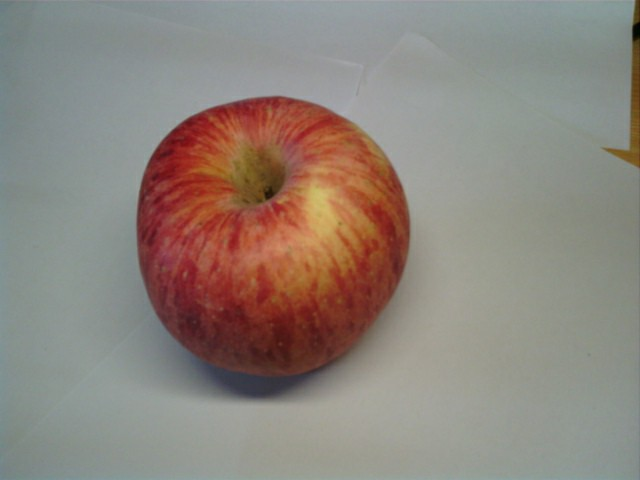normal_apple: (134, 97, 410, 382)
